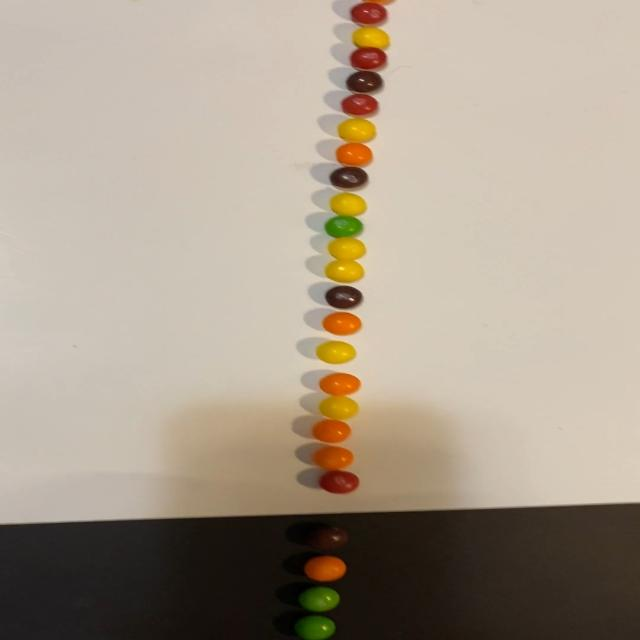smartie: (294, 617, 335, 640)
